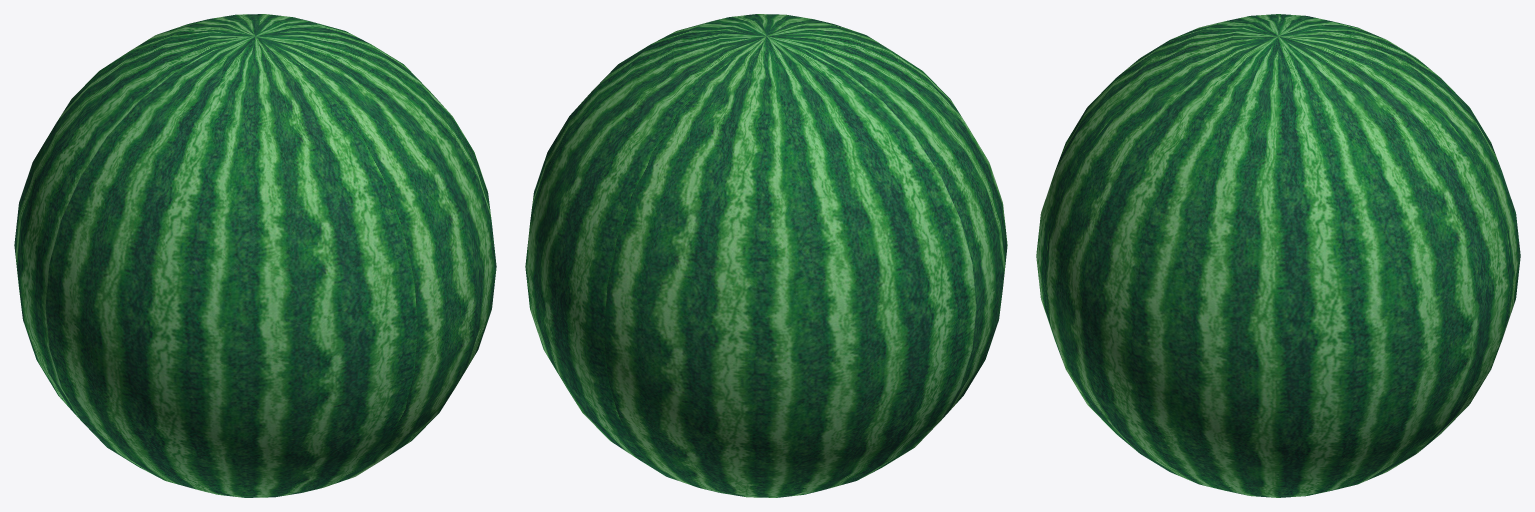
File: watermelon.fbx
3 renders of one model, left to right at view 1: azimuth 30°, elevation 25°; view 2: azimuth 150°, elevation 25°; view 3: azimuth 270°, elevation 25°, orthographic.
Parts seen in each view (by area): view 1: watermelon; view 2: watermelon; view 3: watermelon.
Boxes of the visible parts, x1,y1,x2,y2 form: watermelon: (14,14,496,497); watermelon: (525,14,1007,497); watermelon: (1036,14,1520,497).
Bounding box in the file's own units: 200 × 200 × 200.
